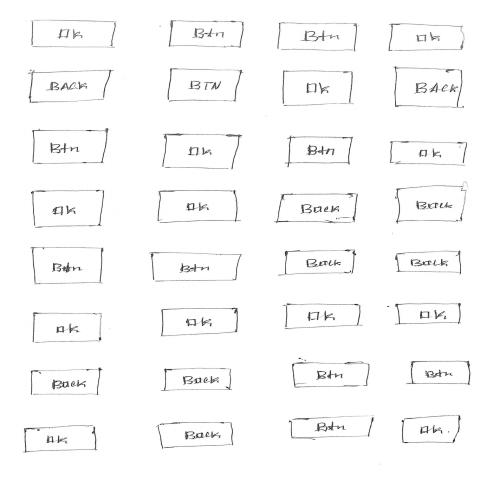Button: (393, 66, 465, 110), (162, 134, 242, 171), (30, 247, 105, 286), (157, 190, 240, 225), (29, 70, 114, 104), (150, 252, 243, 283), (31, 129, 110, 165), (32, 190, 106, 228), (167, 68, 244, 104), (395, 186, 467, 224), (282, 70, 355, 107), (30, 19, 118, 49), (159, 307, 240, 338), (277, 23, 360, 53), (275, 194, 358, 224), (31, 312, 104, 344), (388, 24, 466, 53), (157, 421, 235, 450), (169, 20, 245, 49), (284, 303, 362, 331), (23, 425, 98, 454), (289, 415, 376, 440), (389, 141, 469, 167), (293, 362, 370, 389), (29, 369, 103, 397), (282, 250, 357, 277), (286, 136, 354, 165), (402, 414, 463, 445), (162, 368, 233, 392), (410, 360, 474, 385), (395, 303, 464, 326), (395, 251, 463, 274)
